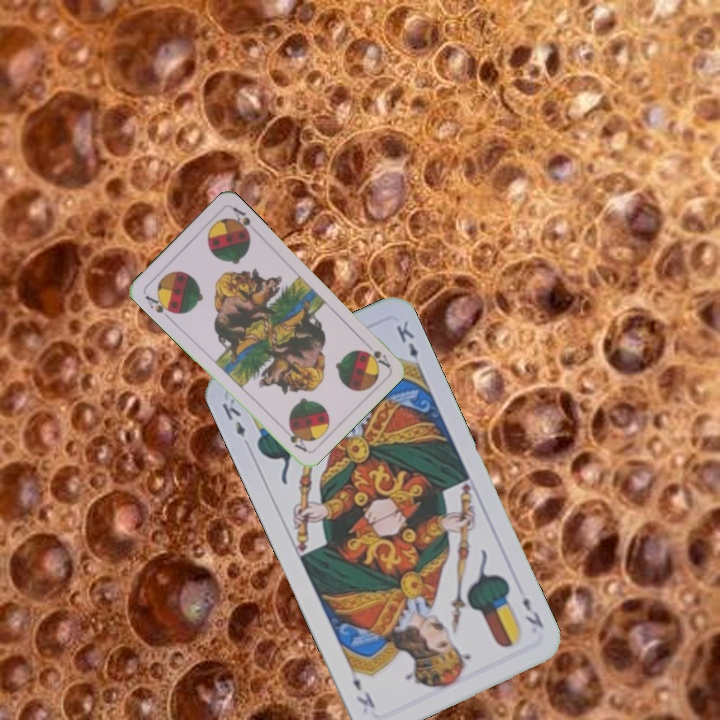EK: (218, 394, 248, 440), (518, 593, 547, 631)
SA: (141, 291, 178, 317), (360, 346, 393, 370)
